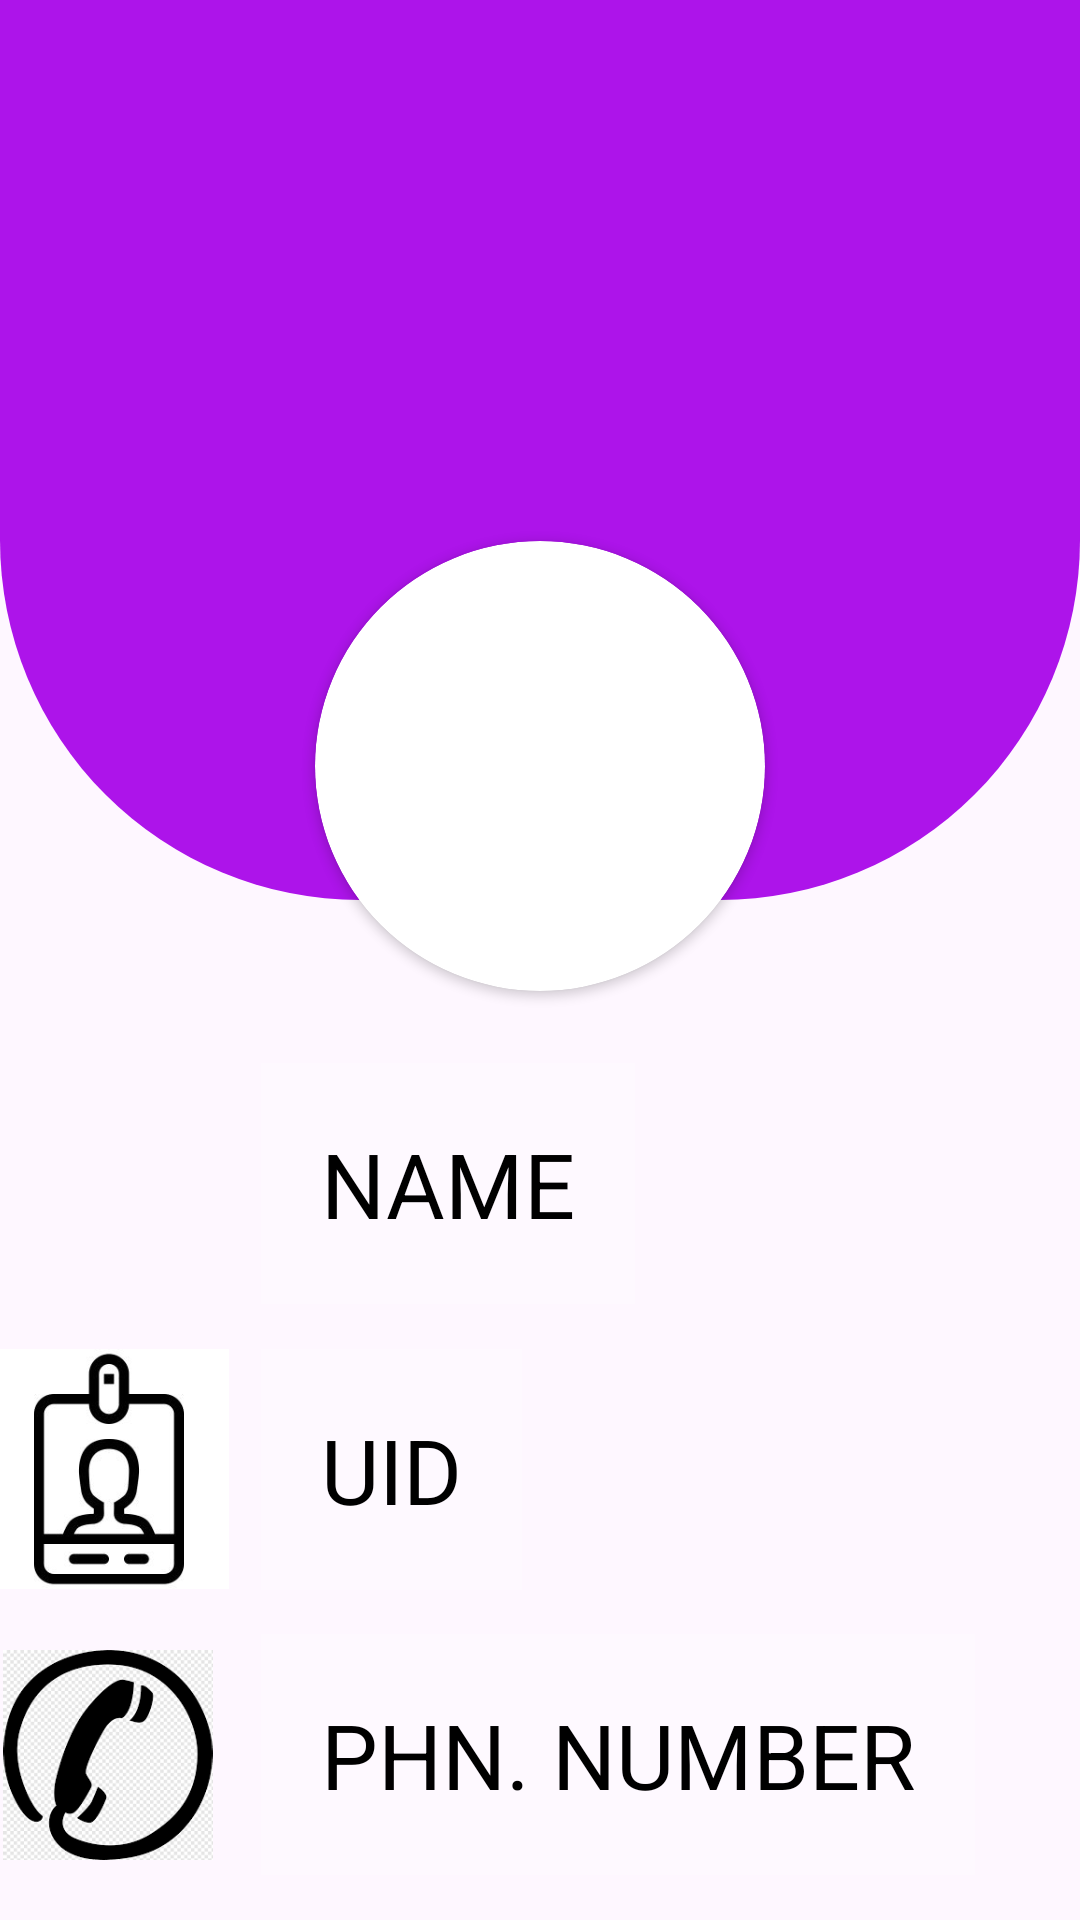

Locate icon controls on the screen. Image size 1080 × 1920, boxes as bbox(x1, y1, x2, y2).
phonenumber: bbox(3, 1650, 213, 1860)
